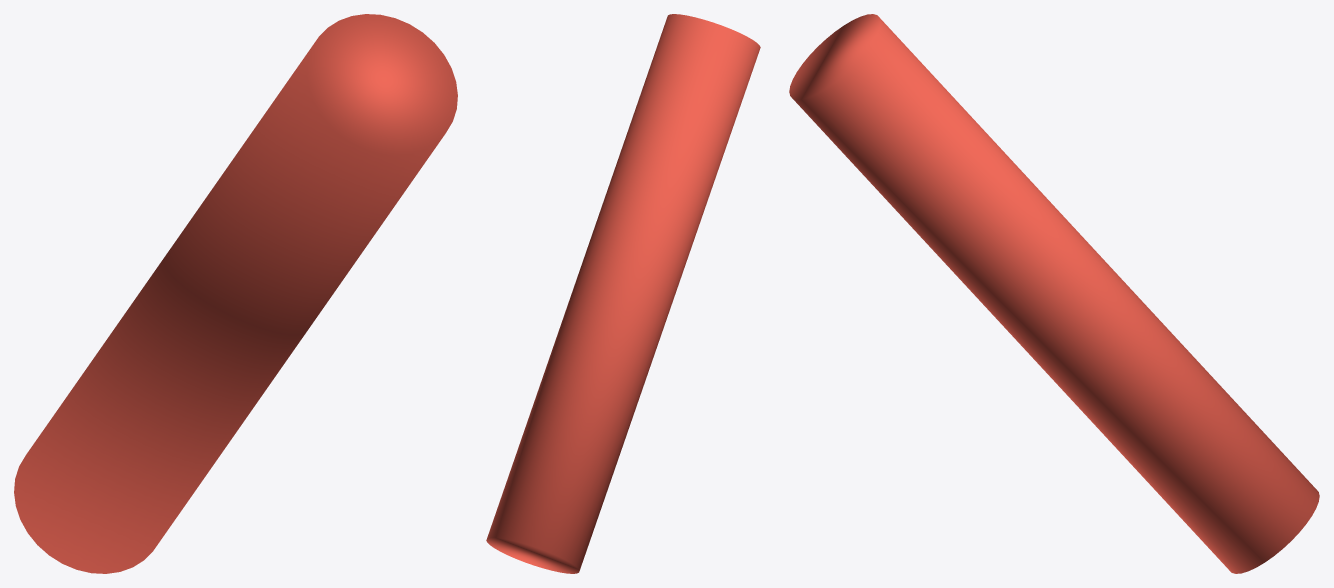
The model's file is HATCH_Charge_Piping_Silicone.glb.
The picture shows the model from 3 angles, left to right: view 1: azimuth 30°, elevation 25°; view 2: azimuth 150°, elevation 25°; view 3: azimuth 270°, elevation 25°; orthographic projection. The views are drawn at different scales.
Visible parts, largest first — view 1: HATCH_Charge_Piping_Silicone; view 2: HATCH_Charge_Piping_Silicone; view 3: HATCH_Charge_Piping_Silicone.
Part boxes in pixels (left/top/right/bottom): HATCH_Charge_Piping_Silicone: left=14, top=14, right=457, bottom=573; HATCH_Charge_Piping_Silicone: left=486, top=14, right=760, bottom=573; HATCH_Charge_Piping_Silicone: left=789, top=14, right=1319, bottom=573.
Size of the model in its own units: 0.07 by 0.3514 by 0.3107.
